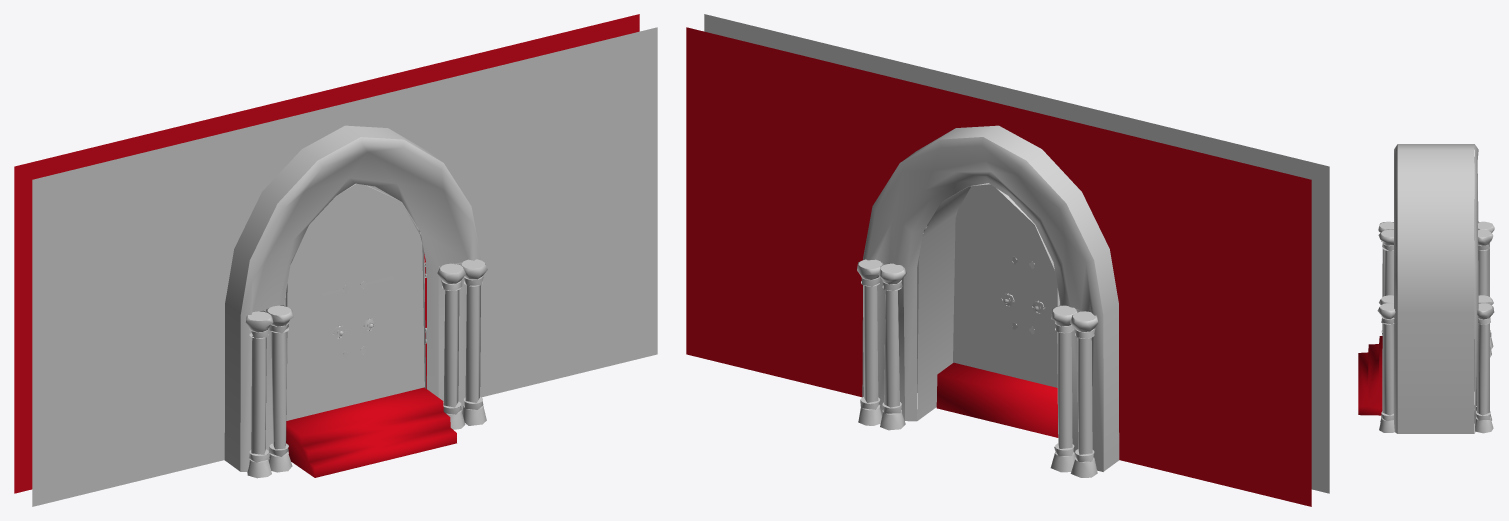
The model's file is Wall_Door (2).fbx.
3 renders of one model, left to right at view 1: azimuth 30°, elevation 25°; view 2: azimuth 150°, elevation 25°; view 3: azimuth 270°, elevation 25°, orthographic. The views are drawn at different scales.
Visible parts, largest first — view 1: Wall.001, Group_1.003, Group_1.000, Group_1.006; view 2: Wall.001, Group_1.003, Group_1.000, Group_1.006; view 3: Group_1.003.
Part boxes in pixels (x1,y1,x2,y2): Wall.001: (14, 14, 657, 506); Group_1.003: (224, 125, 487, 478); Group_1.000: (354, 184, 426, 404); Group_1.006: (284, 185, 354, 420); Wall.001: (686, 14, 1329, 506); Group_1.003: (857, 125, 1119, 477); Group_1.000: (953, 184, 1023, 379); Group_1.006: (1023, 214, 1057, 387); Group_1.003: (1358, 144, 1494, 433).
Bounding box in the file's own units: 1000 × 503 × 243.
